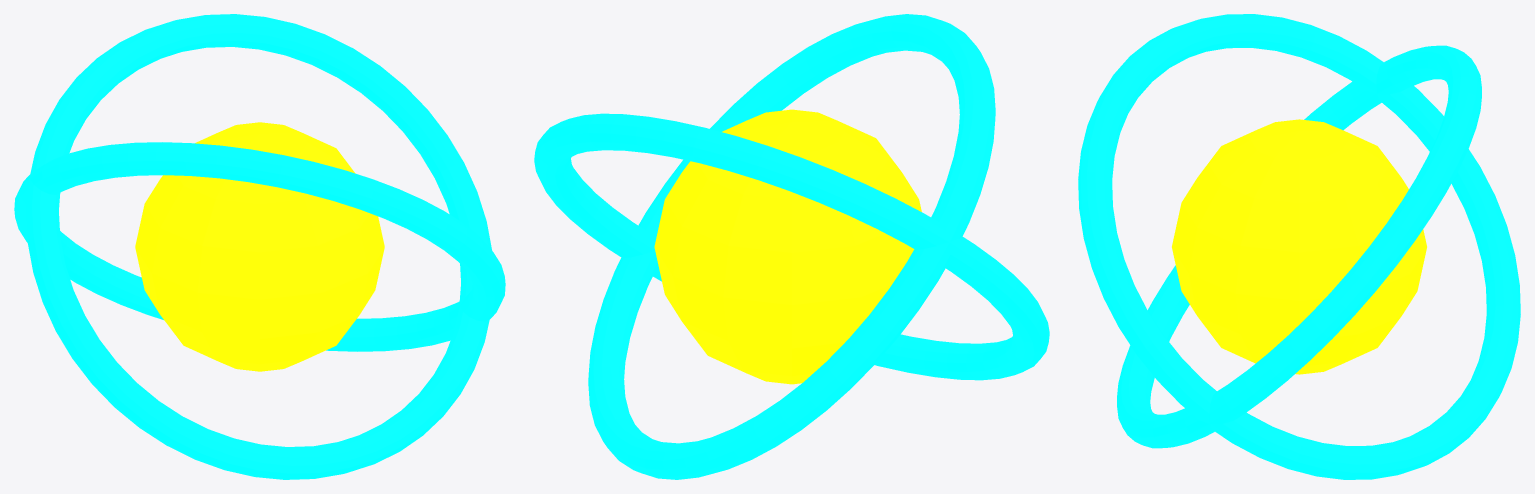
Rendered from anomaly_astro.glb.
The picture shows the model from 3 angles, left to right: view 1: azimuth 30°, elevation 25°; view 2: azimuth 150°, elevation 25°; view 3: azimuth 270°, elevation 25°; orthographic projection. The views are drawn at different scales.
Parts seen in each view (by area): view 1: Torus, Sphere, Torus.001; view 2: Sphere, Torus.001, Torus; view 3: Sphere, Torus.001, Torus.
Boxes of the visible parts, box(x1,y1,x2,y2) form: Torus: box(26, 14, 491, 479); Sphere: box(135, 122, 384, 371); Torus.001: box(14, 142, 505, 351); Sphere: box(654, 109, 921, 384); Torus.001: box(588, 14, 995, 479); Torus: box(534, 113, 1049, 380); Sphere: box(1172, 119, 1426, 374); Torus.001: box(1078, 14, 1520, 479); Torus: box(1117, 45, 1481, 448).
Bounding box in the file's own units: 3 × 2.2 × 2.6.
